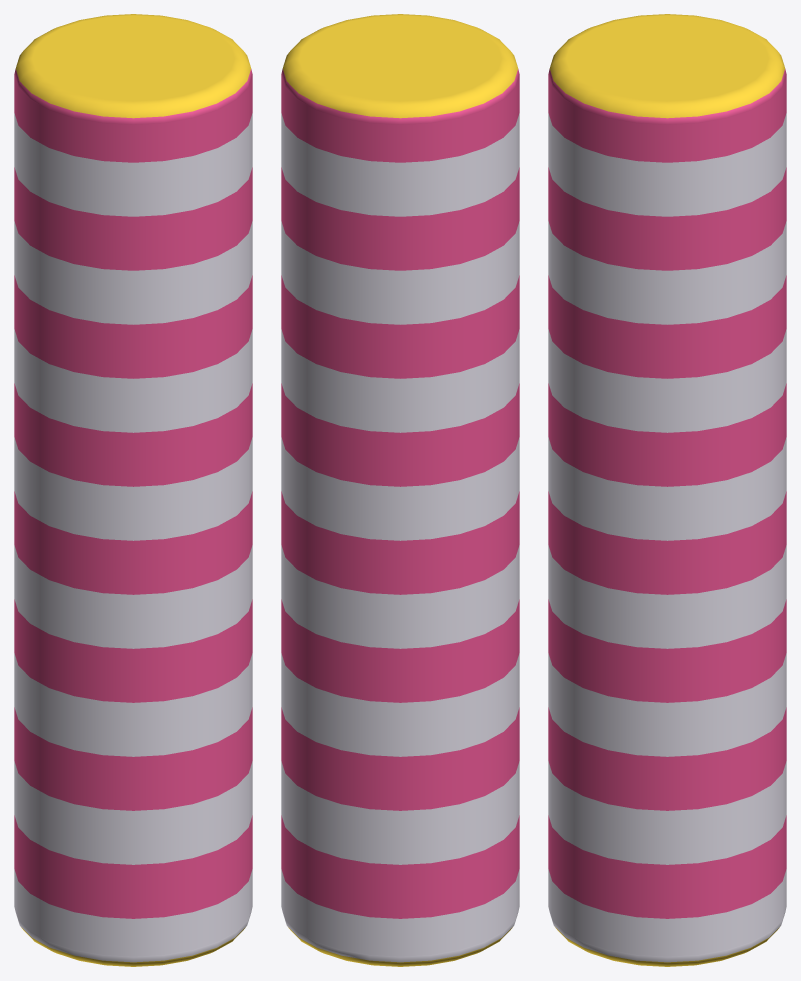
The model's file is pillar_2x8.glb.
3 renders of one model, left to right at view 1: azimuth 30°, elevation 25°; view 2: azimuth 150°, elevation 25°; view 3: azimuth 270°, elevation 25°, orthographic.
Parts seen in each view (by area): view 1: pillar_2x8; view 2: pillar_2x8; view 3: pillar_2x8.
Boxes of the visible parts, x1=… form: pillar_2x8: x1=14, y1=14, x2=252, y2=966; pillar_2x8: x1=281, y1=14, x2=519, y2=966; pillar_2x8: x1=548, y1=14, x2=786, y2=966.
Size of the model in its own units: 2 by 8 by 2.
1 material, 1 textured.
